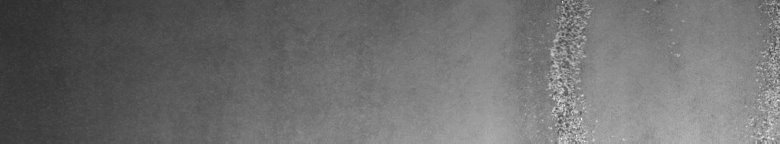hc: (542, 4, 680, 136)
